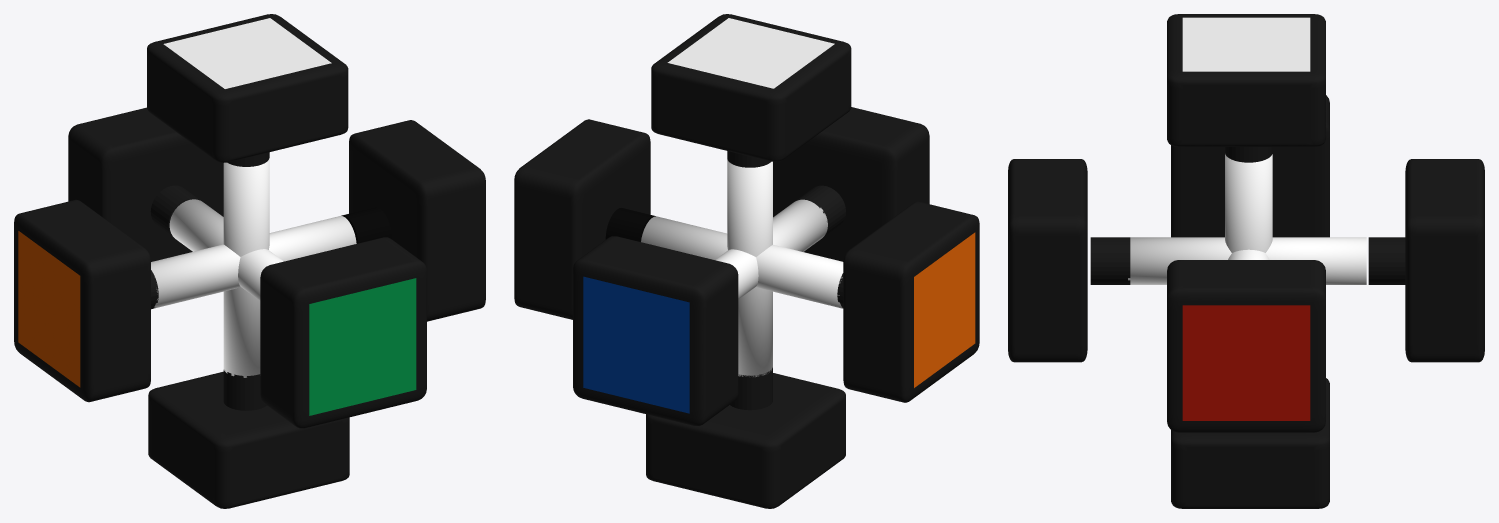
Rendered from skeleton.glb.
3 renders of one model, left to right at view 1: azimuth 30°, elevation 25°; view 2: azimuth 150°, elevation 25°; view 3: azimuth 270°, elevation 25°, orthographic. The views are drawn at different scales.
Parts seen in each view (by area): view 1: Cylinder.008, Cylinder.005, Cylinder.001, Cylinder.002, Cylinder.004, Cylinder.007, Cylinder, Cylinder.003, Cylinder.006; view 2: Cylinder.007, Cylinder.005, Cylinder.001, Cylinder.002, Cylinder.004, Cylinder.008, Cylinder, Cylinder.003, Cylinder.006; view 3: Cylinder.004, Cylinder.001, Cylinder.008, Cylinder.007, Cylinder.002, Cylinder.005, Cylinder.006, Cylinder.
Boxes of the visible parts, x1,y1,x2,y2 form: Cylinder.008: (260,237,426,428); Cylinder.005: (14,200,158,402); Cylinder.001: (147,14,348,166); Cylinder.002: (148,370,349,508); Cylinder.004: (341,120,485,321); Cylinder.007: (68,107,223,261); Cylinder: (223,159,269,377); Cylinder.003: (151,216,356,308); Cylinder.006: (169,199,283,300); Cylinder.007: (573,236,738,426); Cylinder.005: (837,201,979,402); Cylinder.001: (651,14,851,167); Cylinder.002: (646,367,845,508); Cylinder.004: (514,119,655,319); Cylinder.008: (773,107,929,261); Cylinder: (727,159,772,377); Cylinder.003: (641,216,843,308); Cylinder.006: (715,199,827,299); Cylinder.004: (1167,260,1325,432); Cylinder.001: (1167,14,1325,162); Cylinder.008: (1008,159,1130,362); Cylinder.007: (1368,159,1484,362); Cylinder.002: (1171,378,1329,508); Cylinder.005: (1171,95,1329,237); Cylinder.006: (1128,237,1366,284); Cylinder: (1225,154,1272,252).
Bounding box in the file's own units: 6 × 6 × 6.
